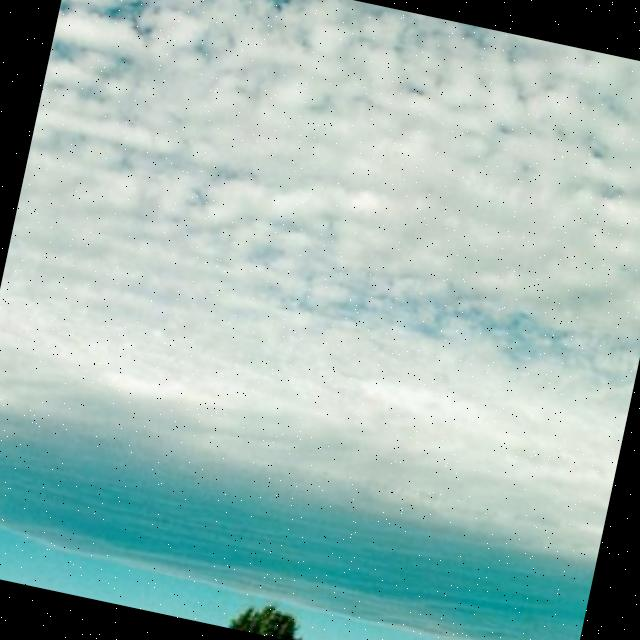Ac: (1, 1, 640, 584)
